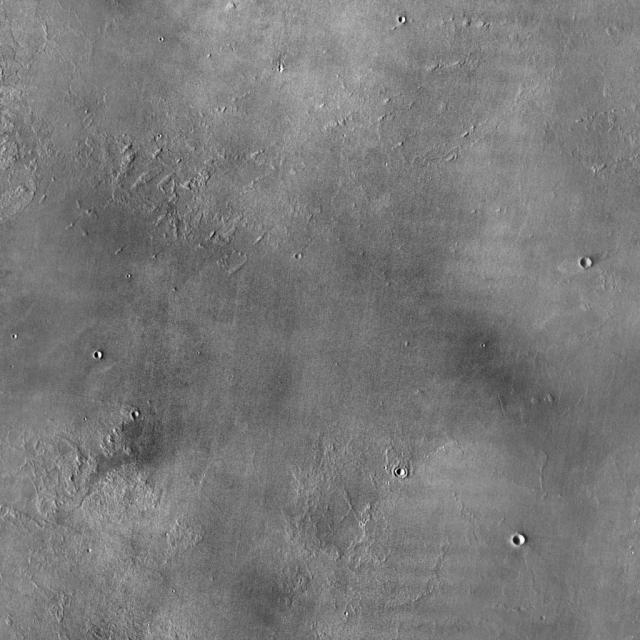crater: (586, 256, 598, 266), (396, 466, 406, 476), (519, 534, 529, 542), (99, 348, 107, 356), (136, 408, 144, 414)
